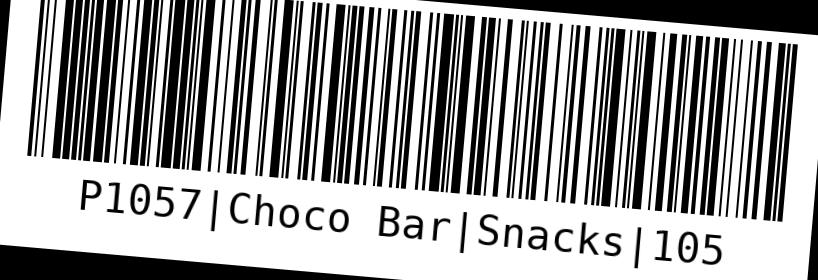milk: (10, 3, 807, 279)
